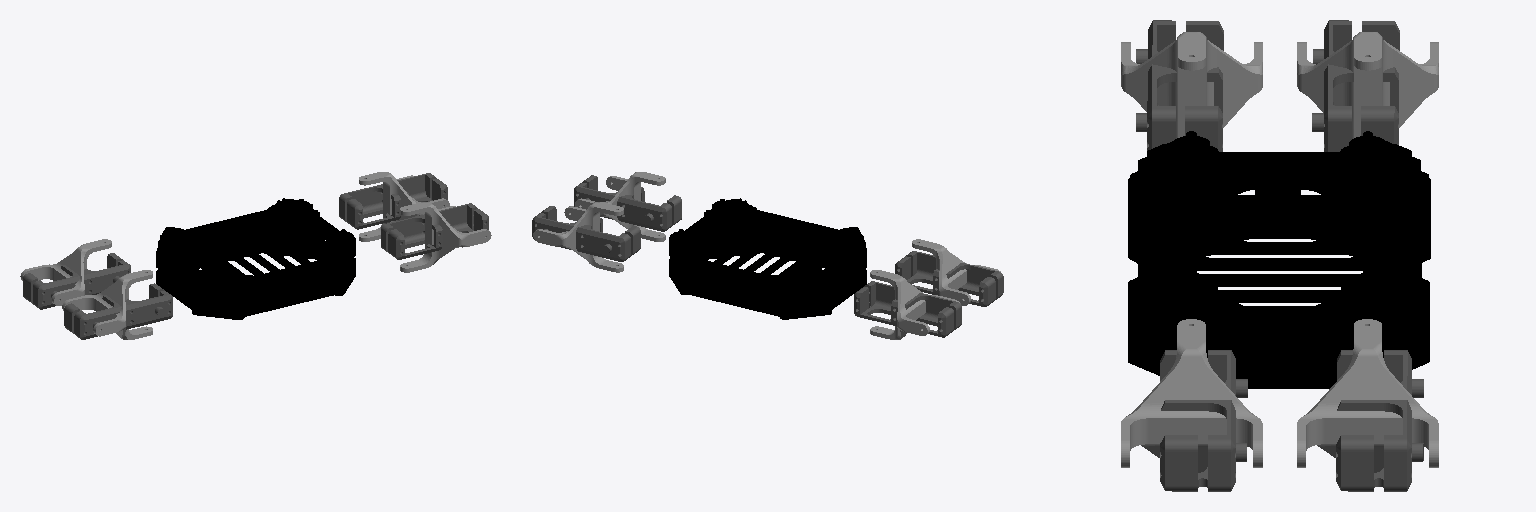
The robot description file, URDF, robot "cheeto_quadruped":
<?xml version="1.0"?>
<robot name="cheeto_quadruped">

  <!-- Main Body Link -->
  <link name="base_link">
    <visual>
      <origin xyz="0 0 0" rpy="0 0 0"/> <!-- TODO: Adjust origin as needed -->
      <geometry>
        <mesh filename="meshes/base.stl"/>
      </geometry>
      <material name="body_color">
        <color rgba="0.0 0.0 0.0 0.0"/> <!-- Red color -->
      </material>
    </visual>
    <collision>
      <origin xyz="0 0 0" rpy="0 0 0"/> <!-- TODO: Adjust collision origin as needed -->
      <geometry>
        <mesh filename="meshes/base.stl"/>
      </geometry>
    </collision>
    <inertial>
      <origin xyz="0 0 0" rpy="0 0 0"/> <!-- TODO: Adjust center of mass -->
      <mass value="2.0"/> <!-- TODO: Set actual body mass in kg -->
      <inertia ixx="0.01" ixy="0" ixz="0" iyy="0.01" iyz="0" izz="0.01"/> <!-- TODO: Calculate actual inertia tensor -->
    </inertial>
  </link>

  <!-- LEG 1: Front Left -->
  
  <!-- Hip 1 Link -->
  <link name="hip1">
    <visual>
      <origin xyz="82 0 0" rpy="0 0 0"/> <!-- TODO: Adjust hip visual origin -->
      <geometry>
        <mesh filename="meshes/hip.stl"/> <!-- Hip mesh file path -->
      </geometry>
      <material name="hip_color">
        <color rgba="0.6 0.6 0.6 1.0"/> <!-- TODO: Set hip color -->
      </material>
    </visual>
    <collision>
      <origin xyz="82 0 0" rpy="0 0 0"/> <!-- TODO: Adjust hip collision origin -->
      <geometry>
        <mesh filename="meshes/hip.stl"/> <!-- Hip mesh file path -->
      </geometry>
    </collision>
    <inertial>
      <origin xyz="82 0 0" rpy="0 0 0"/> <!-- TODO: Adjust hip center of mass -->
      <mass value="0.1"/> <!-- TODO: Set actual hip mass -->
      <inertia ixx="0.001" ixy="0" ixz="0" iyy="0.001" iyz="0" izz="0.001"/> <!-- TODO: Calculate hip inertia -->
    </inertial>
  </link>

  <!-- Hip 1 Joint (base_link to hip1) -->
  <joint name="hip1_joint" type="revolute">
    <parent link="base_link"/>
    <child link="hip1"/>
    <origin xyz="86 46.5 24" rpy="0 0 0"/> <!-- TODO: Position at front-left corner of base -->
    <axis xyz="0 0 1"/> <!-- TODO: Rotation axis perpendicular to base plane (Z-axis) -->
    <limit lower="-1.57" upper="1.57" effort="10" velocity="5"/> <!-- TODO: Adjust joint limits, effort, and velocity -->
  </joint>

  <!-- Thigh 1 Link -->
  <link name="thigh1">
    <visual>
      <origin xyz="0 0 0" rpy="0 0 1.57"/> <!-- TODO: Adjust thigh visual origin -->
      <geometry>
        <mesh filename="meshes/thigh.stl"/> <!-- TODO: Replace with actual thigh mesh file path -->
      </geometry>
      <material name="thigh_color">
        <color rgba="0.4 0.4 0.4 1.0"/> <!-- TODO: Set thigh color -->
      </material>
    </visual>
    <collision>
      <origin xyz="0 0 0" rpy="0 0 0"/> <!-- TODO: Adjust thigh collision origin -->
      <geometry>
        <cylinder radius="0.015" length="0.2"/> <!-- TODO: Replace with actual thigh collision geometry -->
      </geometry>
    </collision>
    <inertial>
      <origin xyz="0 0 -0.1" rpy="0 0 0"/> <!-- TODO: Adjust thigh center of mass -->
      <mass value="0.3"/> <!-- TODO: Set actual thigh mass -->
      <inertia ixx="0.003" ixy="0" ixz="0" iyy="0.003" iyz="0" izz="0.0001"/> <!-- TODO: Calculate thigh inertia -->
    </inertial>
  </link>

  <!-- Thigh 1 Joint (hip1 to thigh1) -->
  <joint name="thigh1_joint" type="revolute">
    <parent link="hip1"/>
    <child link="thigh1"/>
    <origin xyz="80 0 7" rpy="0 0 0"/> <!-- TODO: Adjust thigh attachment point -->
    <axis xyz="0 1 0"/> <!-- TODO: Thigh rotation axis (typically X for forward/backward motion) -->
    <limit lower="-1.57" upper="1.57" effort="15" velocity="5"/> <!-- TODO: Adjust thigh joint limits -->
  </joint>

  <!-- Foot 1 Link -->
  <link name="foot1">
    <visual>
      <origin xyz="0 0 -0.05" rpy="0 0 0"/> <!-- TODO: Adjust foot visual origin -->
      <geometry>
        <mesh filename="meshes/foot.stl"/> <!-- TODO: Replace with actual foot mesh file path -->
      </geometry>
      <material name="foot_color">
        <color rgba="0.2 0.2 0.2 1.0"/> <!-- TODO: Set foot color -->
      </material>
    </visual>
    <collision>
      <origin xyz="0 0 -0.05" rpy="0 0 0"/> <!-- TODO: Adjust foot collision origin -->
      <geometry>
        <sphere radius="0.02"/> <!-- TODO: Replace with actual foot collision geometry -->
      </geometry>
    </collision>
    <inertial>
      <origin xyz="0 0 -0.05" rpy="0 0 0"/> <!-- TODO: Adjust foot center of mass -->
      <mass value="0.05"/> <!-- TODO: Set actual foot mass -->
      <inertia ixx="0.0001" ixy="0" ixz="0" iyy="0.0001" iyz="0" izz="0.0001"/> <!-- TODO: Calculate foot inertia -->
    </inertial>
  </link>

  <!-- Foot 1 Joint (thigh1 to foot1) -->
  <joint name="foot1_joint" type="revolute">
    <parent link="thigh1"/>
    <child link="foot1"/>
    <origin xyz="0 0 -0.2" rpy="0 0 0"/> <!-- TODO: Position at end of thigh -->
    <axis xyz="1 0 0"/> <!-- TODO: Foot rotation axis -->
    <limit lower="-1.57" upper="1.57" effort="5" velocity="5"/> <!-- TODO: Adjust foot joint limits -->
  </joint>

  <!-- LEG 2: Front Right -->
  
  <!-- Hip 2 Link -->
  <link name="hip2">
    <visual>
      <origin xyz="82 0 0" rpy="0 0 0"/> <!-- Hip visual origin -->
      <geometry>
        <mesh filename="meshes/hip.stl"/> <!-- Hip mesh file path -->
      </geometry>
      <material name="hip_color">
        <color rgba="0.6 0.6 0.6 1.0"/> <!-- TODO: Set hip color -->
      </material>
    </visual>
    <collision>
      <origin xyz="82 0 0" rpy="0 0 0"/> <!-- Hip collision origin -->
      <geometry>
        <mesh filename="meshes/hip.stl"/> <!-- Hip mesh file path -->
      </geometry>
    </collision>
    <inertial>
      <origin xyz="82 0 0" rpy="0 0 0"/> <!-- Hip center of mass -->
      <mass value="0.1"/> <!-- TODO: Set actual hip mass -->
      <inertia ixx="0.001" ixy="0" ixz="0" iyy="0.001" iyz="0" izz="0.001"/> <!-- TODO: Calculate hip inertia -->
    </inertial>
  </link>

  <!-- Hip 2 Joint (base_link to hip2) -->
  <joint name="hip2_joint" type="revolute">
    <parent link="base_link"/>
    <child link="hip2"/>
    <origin xyz="86 -46.5 24" rpy="0 0 0"/> <!-- Front-right position (symmetric to hip1) -->
    <axis xyz="0 0 1"/> <!-- TODO: Rotation axis perpendicular to base plane (Z-axis) -->
    <limit lower="-1.57" upper="1.57" effort="10" velocity="5"/> <!-- TODO: Adjust joint limits -->
  </joint>

  <!-- Thigh 2 Link -->
  <link name="thigh2">
    <visual>
      <origin xyz="0 0 0" rpy="0 0 1.57"/> <!-- Thigh visual origin -->
      <geometry>
        <mesh filename="meshes/thigh.stl"/> <!-- Thigh mesh file path -->
      </geometry>
      <material name="thigh_color">
        <color rgba="0.4 0.4 0.4 1.0"/> <!-- TODO: Set thigh color -->
      </material>
    </visual>
    <collision>
      <origin xyz="0 0 0" rpy="0 0 0"/> <!-- TODO: Adjust thigh collision origin -->
      <geometry>
        <cylinder radius="0.015" length="0.2"/> <!-- TODO: Replace with actual thigh collision geometry -->
      </geometry>
    </collision>
    <inertial>
      <origin xyz="0 0 -0.1" rpy="0 0 0"/> <!-- TODO: Adjust thigh center of mass -->
      <mass value="0.3"/> <!-- TODO: Set actual thigh mass -->
      <inertia ixx="0.003" ixy="0" ixz="0" iyy="0.003" iyz="0" izz="0.0001"/> <!-- TODO: Calculate thigh inertia -->
    </inertial>
  </link>

  <!-- Thigh 2 Joint (hip2 to thigh2) -->
  <joint name="thigh2_joint" type="revolute">
    <parent link="hip2"/>
    <child link="thigh2"/>
    <origin xyz="80 0 7" rpy="0 0 0"/> <!-- Thigh attachment point (same as thigh1) -->
    <axis xyz="0 1 0"/> <!-- Thigh rotation axis -->
    <limit lower="-1.57" upper="1.57" effort="15" velocity="5"/> <!-- TODO: Adjust thigh joint limits -->
  </joint>

  <!-- Foot 2 Link -->
  <link name="foot2">
    <visual>
      <origin xyz="0 0 -0.05" rpy="0 0 0"/> <!-- TODO: Adjust foot visual origin -->
      <geometry>
        <mesh filename="meshes/foot.stl"/> <!-- TODO: Replace with actual foot mesh file path -->
      </geometry>
      <material name="foot_color">
        <color rgba="0.2 0.2 0.2 1.0"/> <!-- TODO: Set foot color -->
      </material>
    </visual>
    <collision>
      <origin xyz="0 0 -0.05" rpy="0 0 0"/> <!-- TODO: Adjust foot collision origin -->
      <geometry>
        <sphere radius="0.02"/> <!-- TODO: Replace with actual foot collision geometry -->
      </geometry>
    </collision>
    <inertial>
      <origin xyz="0 0 -0.05" rpy="0 0 0"/> <!-- TODO: Adjust foot center of mass -->
      <mass value="0.05"/> <!-- TODO: Set actual foot mass -->
      <inertia ixx="0.0001" ixy="0" ixz="0" iyy="0.0001" iyz="0" izz="0.0001"/> <!-- TODO: Calculate foot inertia -->
    </inertial>
  </link>

  <!-- Foot 2 Joint (thigh2 to foot2) -->
  <joint name="foot2_joint" type="revolute">
    <parent link="thigh2"/>
    <child link="foot2"/>
    <origin xyz="0 0 -0.2" rpy="0 0 0"/> <!-- TODO: Position at end of thigh -->
    <axis xyz="1 0 0"/> <!-- TODO: Foot rotation axis -->
    <limit lower="-1.57" upper="1.57" effort="5" velocity="5"/> <!-- TODO: Adjust foot joint limits -->
  </joint>

  <!-- LEG 3: Rear Left -->
  
  <!-- Hip 3 Link -->
  <link name="hip3">
    <visual>
      <origin xyz="82 0 0" rpy="0 0 0"/> <!-- Hip visual origin -->
      <geometry>
        <mesh filename="meshes/hip.stl"/> <!-- Hip mesh file path -->
      </geometry>
      <material name="hip_color">
        <color rgba="0.6 0.6 0.6 1.0"/> <!-- TODO: Set hip color -->
      </material>
    </visual>
    <collision>
      <origin xyz="82 0 0" rpy="0 0 0"/> <!-- Hip collision origin -->
      <geometry>
        <mesh filename="meshes/hip.stl"/> <!-- Hip mesh file path -->
      </geometry>
    </collision>
    <inertial>
      <origin xyz="82 0 0" rpy="0 0 0"/> <!-- Hip center of mass -->
      <mass value="0.1"/> <!-- TODO: Set actual hip mass -->
      <inertia ixx="0.001" ixy="0" ixz="0" iyy="0.001" iyz="0" izz="0.001"/> <!-- TODO: Calculate hip inertia -->
    </inertial>
  </link>

  <!-- Hip 3 Joint (base_link to hip3) -->
  <joint name="hip3_joint" type="revolute">
    <parent link="base_link"/>
    <child link="hip3"/>
    <origin xyz="-86 46.5 24" rpy="0 0 3.14"/> <!-- Rear-left position (symmetric to hip1) -->
    <axis xyz="0 0 1"/> <!-- TODO: Rotation axis perpendicular to base plane (Z-axis) -->
    <limit lower="-1.57" upper="1.57" effort="10" velocity="5"/> <!-- TODO: Adjust joint limits -->
  </joint>

  <!-- Thigh 3 Link -->
  <link name="thigh3">
    <visual>
      <origin xyz="0 0 0" rpy="0 0 1.57"/> <!-- Thigh visual origin -->
      <geometry>
        <mesh filename="meshes/thigh.stl"/> <!-- Thigh mesh file path -->
      </geometry>
      <material name="thigh_color">
        <color rgba="0.4 0.4 0.4 1.0"/> <!-- TODO: Set thigh color -->
      </material>
    </visual>
    <collision>
      <origin xyz="0 0 -0.1" rpy="0 0 0"/> <!-- TODO: Adjust thigh collision origin -->
      <geometry>
        <cylinder radius="0.015" length="0.2"/> <!-- TODO: Replace with actual thigh collision geometry -->
      </geometry>
    </collision>
    <inertial>
      <origin xyz="0 0 -0.1" rpy="0 0 0"/> <!-- TODO: Adjust thigh center of mass -->
      <mass value="0.3"/> <!-- TODO: Set actual thigh mass -->
      <inertia ixx="0.003" ixy="0" ixz="0" iyy="0.003" iyz="0" izz="0.0001"/> <!-- TODO: Calculate thigh inertia -->
    </inertial>
  </link>

  <!-- Thigh 3 Joint (hip3 to thigh3) -->
  <joint name="thigh3_joint" type="revolute">
    <parent link="hip3"/>
    <child link="thigh3"/>
    <origin xyz="80 0 7" rpy="0 0 0"/> <!-- Thigh attachment point (same as thigh1) -->
    <axis xyz="0 1 0"/> <!-- Thigh rotation axis -->
    <limit lower="-1.57" upper="1.57" effort="15" velocity="5"/> <!-- TODO: Adjust thigh joint limits -->
  </joint>

  <!-- Foot 3 Link -->
  <link name="foot3">
    <visual>
      <origin xyz="0 0 -0.05" rpy="0 0 0"/> <!-- TODO: Adjust foot visual origin -->
      <geometry>
        <mesh filename="meshes/foot.stl"/> <!-- TODO: Replace with actual foot mesh file path -->
      </geometry>
      <material name="foot_color">
        <color rgba="0.2 0.2 0.2 1.0"/> <!-- TODO: Set foot color -->
      </material>
    </visual>
    <collision>
      <origin xyz="0 0 -0.05" rpy="0 0 0"/> <!-- TODO: Adjust foot collision origin -->
      <geometry>
        <sphere radius="0.02"/> <!-- TODO: Replace with actual foot collision geometry -->
      </geometry>
    </collision>
    <inertial>
      <origin xyz="0 0 -0.05" rpy="0 0 0"/> <!-- TODO: Adjust foot center of mass -->
      <mass value="0.05"/> <!-- TODO: Set actual foot mass -->
      <inertia ixx="0.0001" ixy="0" ixz="0" iyy="0.0001" iyz="0" izz="0.0001"/> <!-- TODO: Calculate foot inertia -->
    </inertial>
  </link>

  <!-- Foot 3 Joint (thigh3 to foot3) -->
  <joint name="foot3_joint" type="revolute">
    <parent link="thigh3"/>
    <child link="foot3"/>
    <origin xyz="0 0 -0.2" rpy="0 0 0"/> <!-- TODO: Position at end of thigh -->
    <axis xyz="1 0 0"/> <!-- TODO: Foot rotation axis -->
    <limit lower="-1.57" upper="1.57" effort="5" velocity="5"/> <!-- TODO: Adjust foot joint limits -->
  </joint>

  <!-- LEG 4: Rear Right -->
  
  <!-- Hip 4 Link -->
  <link name="hip4">
    <visual>
      <origin xyz="82 0 0" rpy="0 0 0"/> <!-- Hip visual origin -->
      <geometry>
        <mesh filename="meshes/hip.stl"/> <!-- Hip mesh file path -->
      </geometry>
      <material name="hip_color">
        <color rgba="0.6 0.6 0.6 1.0"/> <!-- TODO: Set hip color -->
      </material>
    </visual>
    <collision>
      <origin xyz="82 0 0" rpy="0 0 0"/> <!-- Hip collision origin -->
      <geometry>
        <mesh filename="meshes/hip.stl"/> <!-- Hip mesh file path -->
      </geometry>
    </collision>
    <inertial>
      <origin xyz="82 0 0" rpy="0 0 0"/> <!-- Hip center of mass -->
      <mass value="0.1"/> <!-- TODO: Set actual hip mass -->
      <inertia ixx="0.001" ixy="0" ixz="0" iyy="0.001" iyz="0" izz="0.001"/> <!-- TODO: Calculate hip inertia -->
    </inertial>
  </link>

  <!-- Hip 4 Joint (base_link to hip4) -->
  <joint name="hip4_joint" type="revolute">
    <parent link="base_link"/>
    <child link="hip4"/>
    <origin xyz="-86 -46.5 24" rpy="0 0 3.14"/> <!-- Rear-right position (symmetric to hip1) -->
    <axis xyz="0 0 1"/> <!-- TODO: Rotation axis perpendicular to base plane (Z-axis) -->
    <limit lower="-1.57" upper="1.57" effort="10" velocity="5"/> <!-- TODO: Adjust joint limits -->
  </joint>

  <!-- Thigh 4 Link -->
  <link name="thigh4">
    <visual>
      <origin xyz="0 0 0" rpy="0 0 1.57"/> <!-- Thigh visual origin -->
      <geometry>
        <mesh filename="meshes/thigh.stl"/> <!-- Thigh mesh file path -->
      </geometry>
      <material name="thigh_color">
        <color rgba="0.4 0.4 0.4 1.0"/> <!-- TODO: Set thigh color -->
      </material>
    </visual>
    <collision>
      <origin xyz="0 0 -0.1" rpy="0 0 0"/> <!-- TODO: Adjust thigh collision origin -->
      <geometry>
        <cylinder radius="0.015" length="0.2"/> <!-- TODO: Replace with actual thigh collision geometry -->
      </geometry>
    </collision>
    <inertial>
      <origin xyz="0 0 -0.1" rpy="0 0 0"/> <!-- TODO: Adjust thigh center of mass -->
      <mass value="0.3"/> <!-- TODO: Set actual thigh mass -->
      <inertia ixx="0.003" ixy="0" ixz="0" iyy="0.003" iyz="0" izz="0.0001"/> <!-- TODO: Calculate thigh inertia -->
    </inertial>
  </link>

  <!-- Thigh 4 Joint (hip4 to thigh4) -->
  <joint name="thigh4_joint" type="revolute">
    <parent link="hip4"/>
    <child link="thigh4"/>
    <origin xyz="80 0 7" rpy="0 0 0"/> <!-- Thigh attachment point (same as thigh1) -->
    <axis xyz="0 1 0"/> <!-- Thigh rotation axis -->
    <limit lower="-1.57" upper="1.57" effort="15" velocity="5"/> <!-- TODO: Adjust thigh joint limits -->
  </joint>

  <!-- Foot 4 Link -->
  <link name="foot4">
    <visual>
      <origin xyz="0 0 -0.05" rpy="0 0 0"/> <!-- TODO: Adjust foot visual origin -->
      <geometry>
        <mesh filename="meshes/foot.stl"/> <!-- TODO: Replace with actual foot mesh file path -->
      </geometry>
      <material name="foot_color">
        <color rgba="0.2 0.2 0.2 1.0"/> <!-- TODO: Set foot color -->
      </material>
    </visual>
    <collision>
      <origin xyz="0 0 -0.05" rpy="0 0 0"/> <!-- TODO: Adjust foot collision origin -->
      <geometry>
        <sphere radius="0.02"/> <!-- TODO: Replace with actual foot collision geometry -->
      </geometry>
    </collision>
    <inertial>
      <origin xyz="0 0 -0.05" rpy="0 0 0"/> <!-- TODO: Adjust foot center of mass -->
      <mass value="0.05"/> <!-- TODO: Set actual foot mass -->
      <inertia ixx="0.0001" ixy="0" ixz="0" iyy="0.0001" iyz="0" izz="0.0001"/> <!-- TODO: Calculate foot inertia -->
    </inertial>
  </link>

  <!-- Foot 4 Joint (thigh4 to foot4) -->
  <joint name="foot4_joint" type="revolute">
    <parent link="thigh4"/>
    <child link="foot4"/>
    <origin xyz="0 0 -0.2" rpy="0 0 0"/> <!-- TODO: Position at end of thigh -->
    <axis xyz="1 0 0"/> <!-- TODO: Foot rotation axis -->
    <limit lower="-1.57" upper="1.57" effort="5" velocity="5"/> <!-- TODO: Adjust foot joint limits -->
  </joint>

</robot>

--- What the picture shows (computed from the rendered views, not written in the file) ---
The picture shows the robot from 3 angles, left to right: view 1: azimuth 30°, elevation 25°; view 2: azimuth 150°, elevation 25°; view 3: azimuth 270°, elevation 25°; orthographic projection.
Model cheeto_quadruped with 13 links and 12 joints (12 revolute), rooted at base_link, posed every joint at zero.
Visible links, largest first — view 1: base_link, thigh2, thigh1, thigh4, thigh3, hip2, hip4, hip3, hip1; view 2: base_link, thigh3, thigh4, thigh1, thigh2, hip1, hip3, hip4, hip2; view 3: base_link, hip2, hip1, hip3, hip4, thigh2, thigh1, thigh3, thigh4.
Boxes of the visible links, left/top/right/bottom form: base_link: left=156, top=198, right=355, bottom=319; thigh2: left=381, top=203, right=488, bottom=259; thigh1: left=339, top=173, right=447, bottom=229; thigh4: left=64, top=283, right=172, bottom=339; thigh3: left=23, top=253, right=130, bottom=309; hip2: left=400, top=202, right=491, bottom=272; hip4: left=62, top=270, right=152, bottom=339; hip3: left=20, top=239, right=111, bottom=305; hip1: left=359, top=172, right=449, bottom=241; base_link: left=669, top=198, right=866, bottom=319; thigh3: left=854, top=281, right=961, bottom=337; thigh4: left=895, top=251, right=1003, bottom=306; thigh1: left=532, top=206, right=640, bottom=261; thigh2: left=574, top=175, right=681, bottom=231; hip1: left=533, top=202, right=623, bottom=272; hip3: left=870, top=270, right=959, bottom=339; hip4: left=912, top=239, right=1000, bottom=305; hip2: left=575, top=172, right=665, bottom=241; base_link: left=1128, top=131, right=1430, bottom=388; hip2: left=1121, top=319, right=1262, bottom=472; hip1: left=1297, top=319, right=1438, bottom=472; hip3: left=1297, top=32, right=1438, bottom=138; hip4: left=1121, top=32, right=1262, bottom=138; thigh2: left=1160, top=350, right=1247, bottom=491; thigh1: left=1336, top=350, right=1423, bottom=491; thigh3: left=1312, top=20, right=1399, bottom=151; thigh4: left=1136, top=20, right=1223, bottom=151.
Bounding box of the posed robot: 532 × 168 × 75 m (x, y, z).
9 mesh visuals loaded from 4 distinct referenced files (3 binary STL); not drawn: 4 (reference not matched to a file when rendering).
